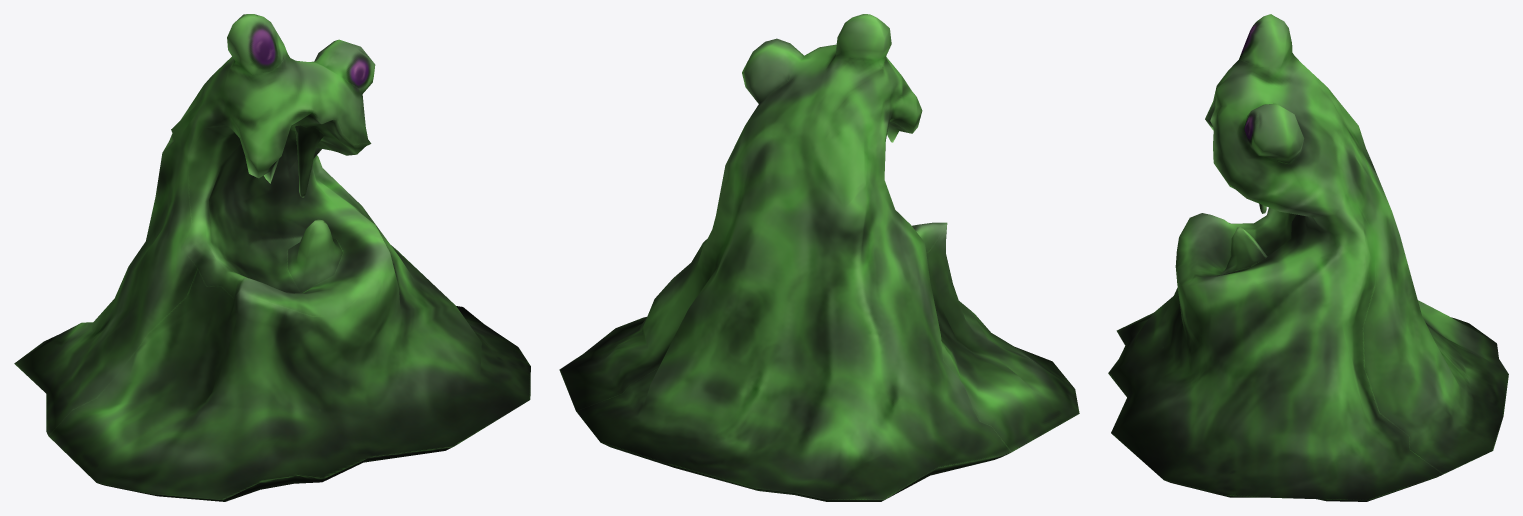
The model's file is OozeyScaled.obj.
3 views of the same model, side by side, from view 1: azimuth 30°, elevation 25°; view 2: azimuth 150°, elevation 25°; view 3: azimuth 270°, elevation 25° (orthographic). The views are drawn at different scales.
Parts seen in each view (by area): view 1: Oozey; view 2: Oozey; view 3: Oozey.
Boxes of the visible parts, bbox=[...] form: Oozey: bbox=[14, 14, 530, 501]; Oozey: bbox=[559, 14, 1079, 501]; Oozey: bbox=[1108, 14, 1508, 501].
Size of the model in its own units: 2.52 by 2.13 by 2.09.
Materials: 1 (1 with a texture image).
